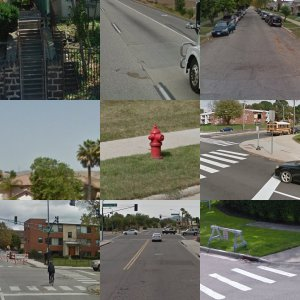棕梠樹: (114, 107, 160, 198)
汽車: (56, 144, 89, 170), (21, 51, 43, 65)
消防栓: (135, 224, 178, 276)
紅綠燈: (256, 115, 287, 171)
高山或山丘: (100, 16, 200, 46)
